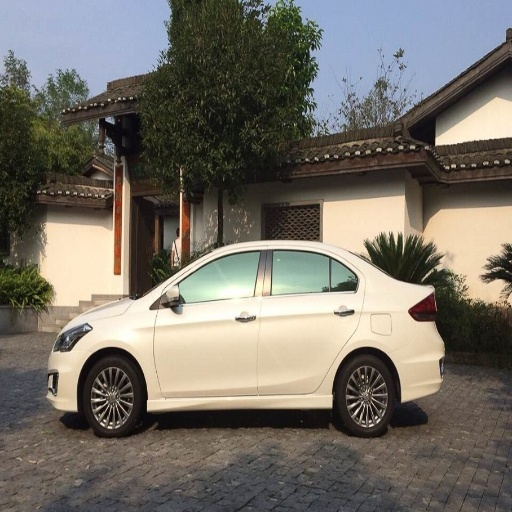back_bumper: (397, 356, 443, 401)
back_glass: (380, 248, 437, 283)
back_left_door: (259, 248, 363, 393)
front_left_door: (154, 248, 265, 398)
